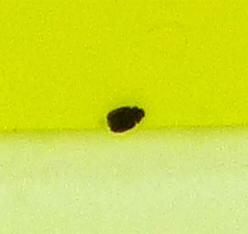Coleoptera: (100, 100, 148, 134)
